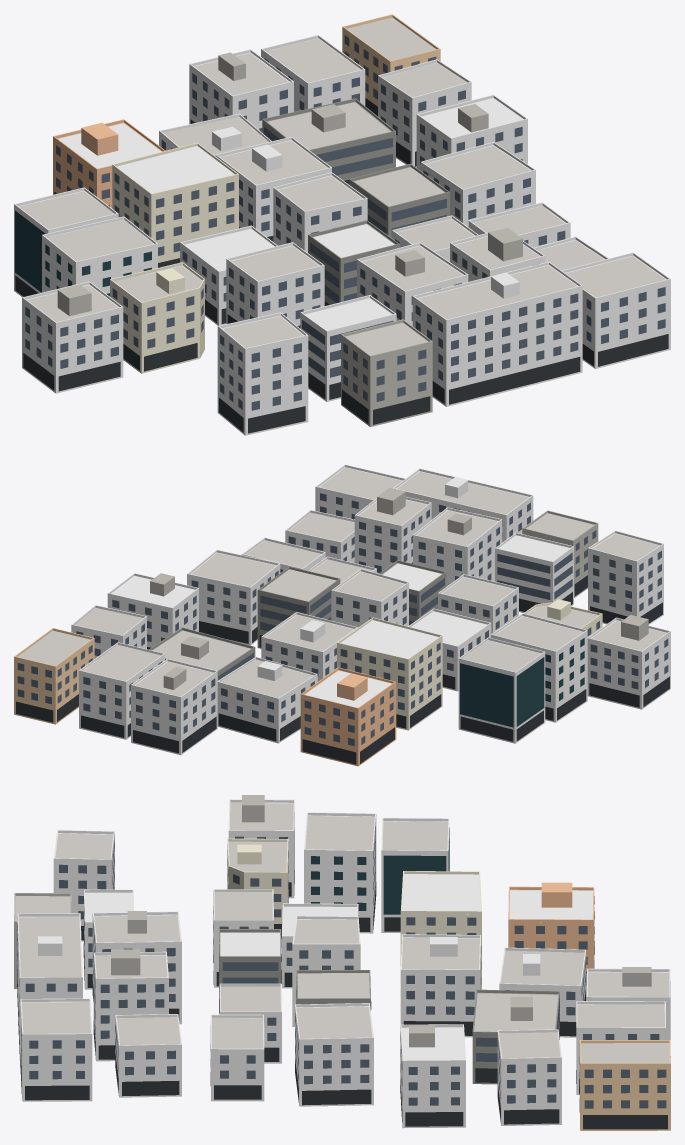
The model's file is fill_mid_s.glb.
3 renders of one model, top to bottom at view 1: azimuth 30°, elevation 25°; view 2: azimuth 150°, elevation 25°; view 3: azimuth 270°, elevation 25°, orthographic. The views are drawn at different scales.
Parts seen in each view (by area): view 1: fill_mid_s; view 2: fill_mid_s; view 3: fill_mid_s.
Boxes of the visible parts, <box> form: fill_mid_s: <box>14,14,670,435</box>; fill_mid_s: <box>14,464,670,766</box>; fill_mid_s: <box>14,795,670,1130</box>.
Size of the model in its own units: 111 by 18.9 by 117.
